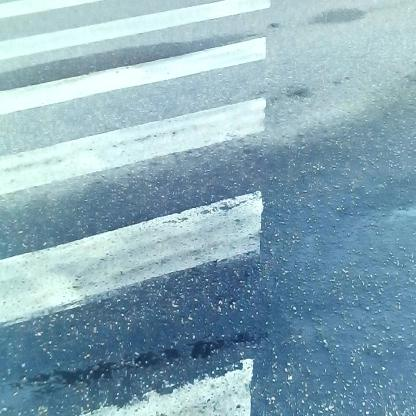crosswalk: (1, 5, 285, 416)
